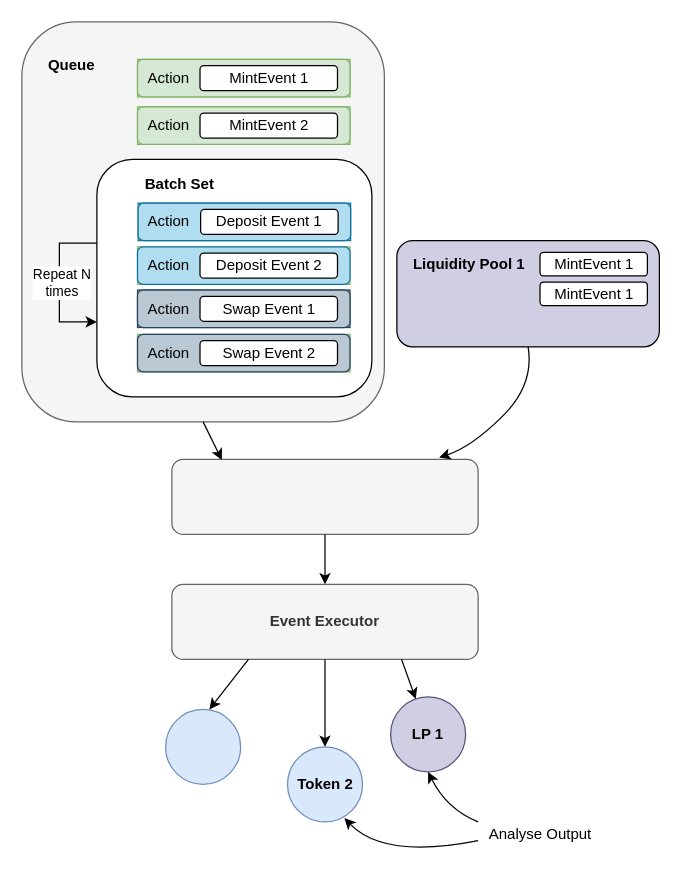
Some shapes in this 681 by 870 pixel diagram are drawn without their labels. The shapes that lost their labels are listed below. From the top down, each one's box as (x1, y1, x2, y2) in pixels, then its label:
(171, 458, 478, 534): Orchestrator
(164, 708, 241, 784): Token 1
